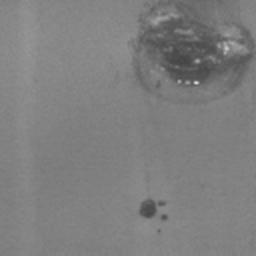Slag inclusion: (132, 0, 256, 97), (142, 198, 166, 220), (159, 214, 168, 220)
